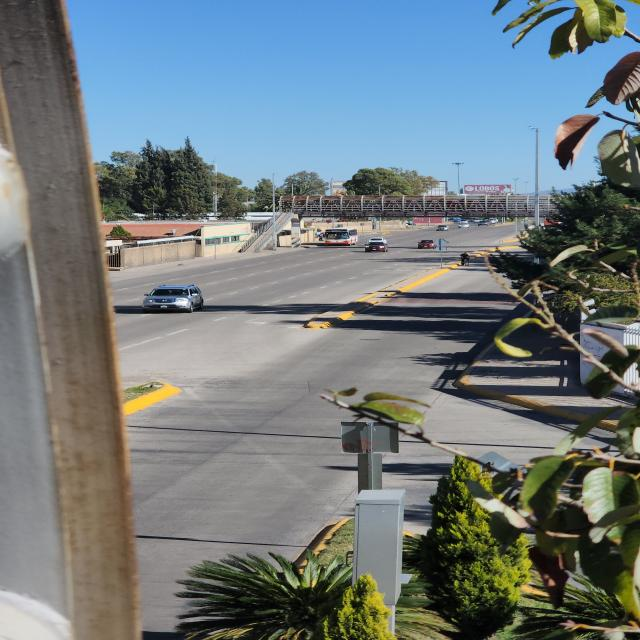Auto: (142, 282, 202, 312), (366, 237, 388, 252), (418, 239, 435, 249)
